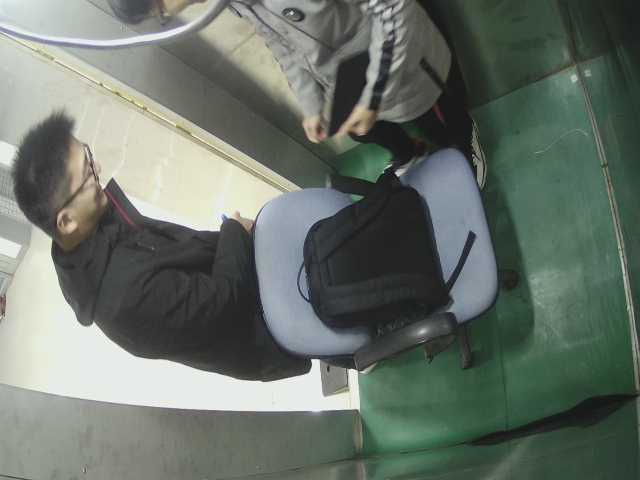bag: (293, 170, 468, 318)
chair: (236, 146, 520, 372)
person: (14, 111, 305, 385)
